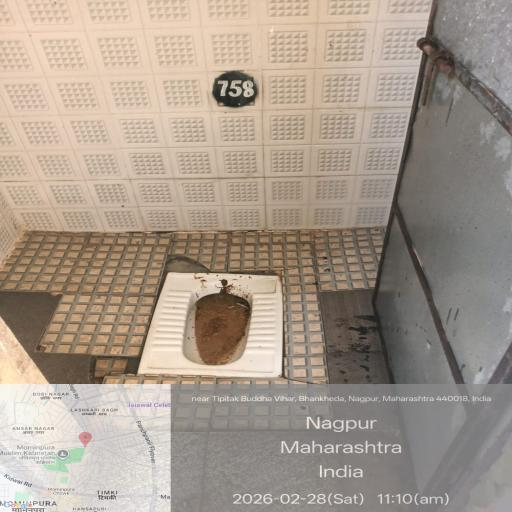clean_floor: (30, 12, 512, 247)
dirty_indian: (124, 253, 304, 387)
partial_dirty_floor: (32, 363, 512, 512)
